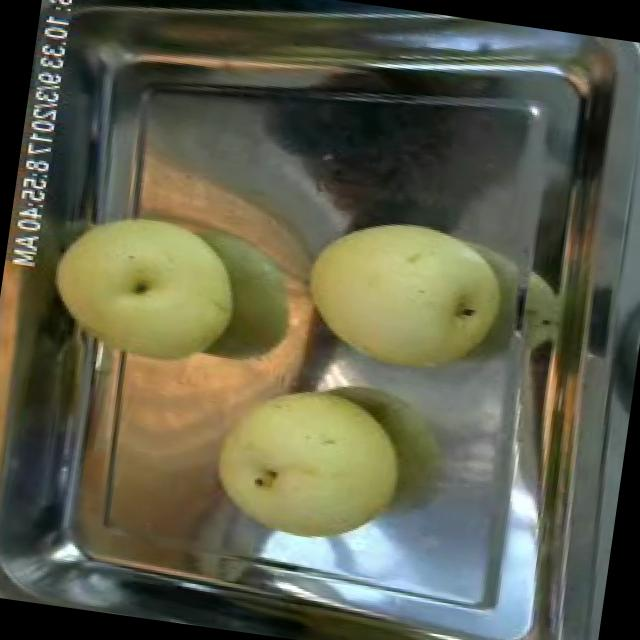Fruit: (197, 365, 420, 561), (292, 202, 518, 389), (32, 192, 256, 379)
